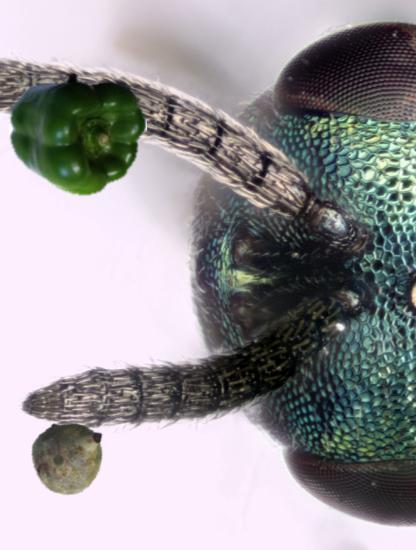Beetroot: (29, 406, 123, 500)
Pepper: (9, 66, 148, 205)
